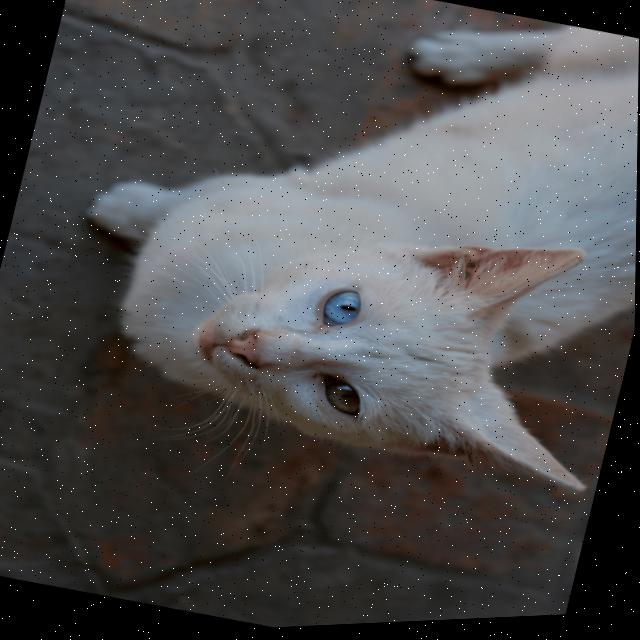Khao Manee: (35, 0, 640, 528)
